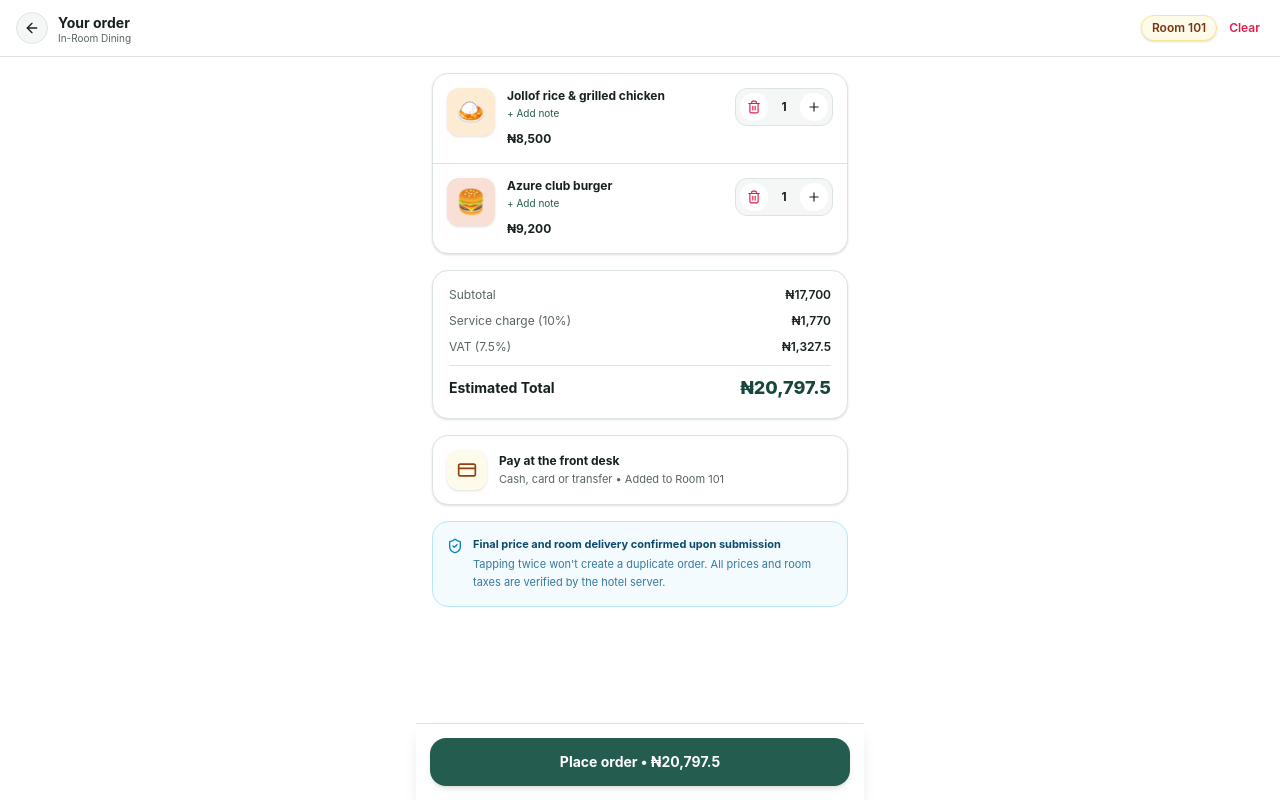
Test: CartPage Component Suite › clears all items when clicking the Clear header button
The image size is (1280, 800).
Click the button with aria-label "clear all cart items". click: (1245, 28)
box: [1225,16,1264,40]
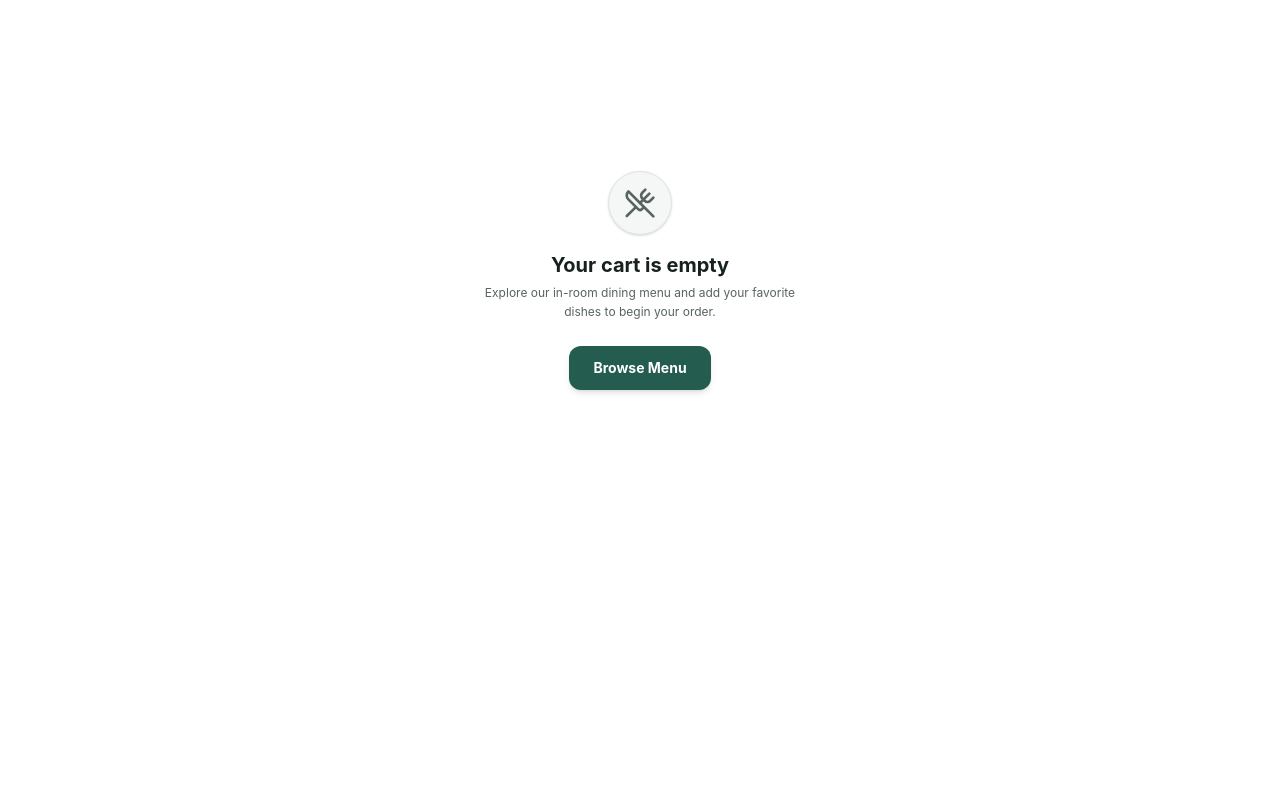
Check: the element with test id "cart-empty-view" is shown, box [485,170,795,390]
